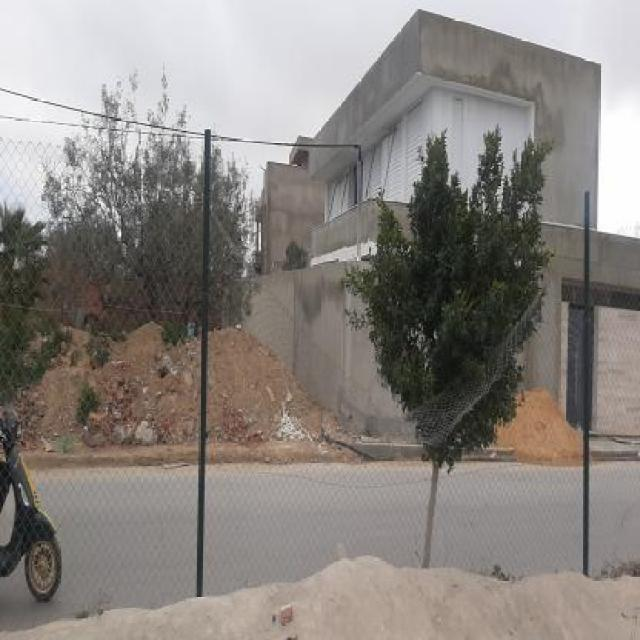fence line: (249, 220, 551, 417)
